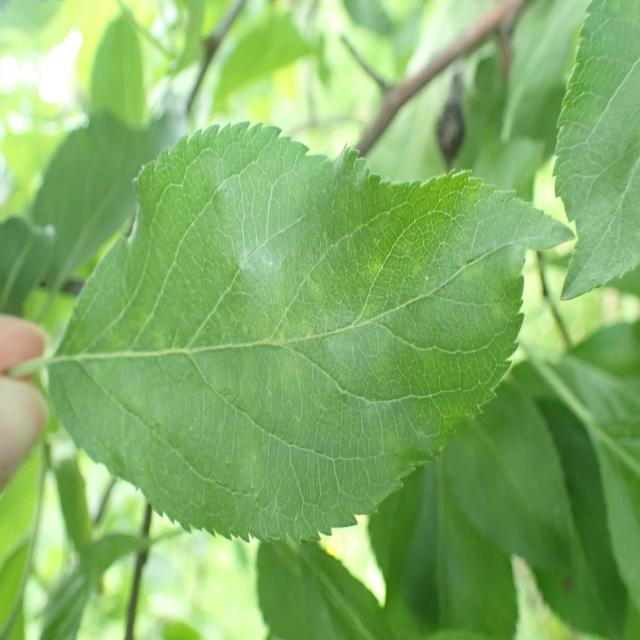scab: (42, 208, 542, 461)
